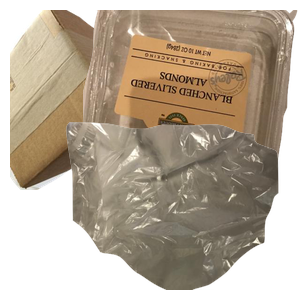cardboard: (10, 10, 206, 190)
glass: (94, 184, 253, 300)
plastic: (83, 10, 300, 190)
trash: (64, 120, 300, 300)
